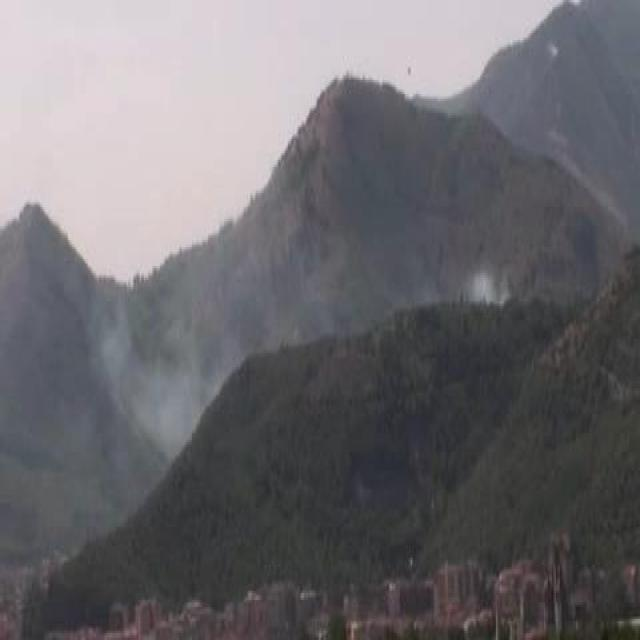Smoke: (92, 314, 205, 448), (456, 256, 508, 306)
